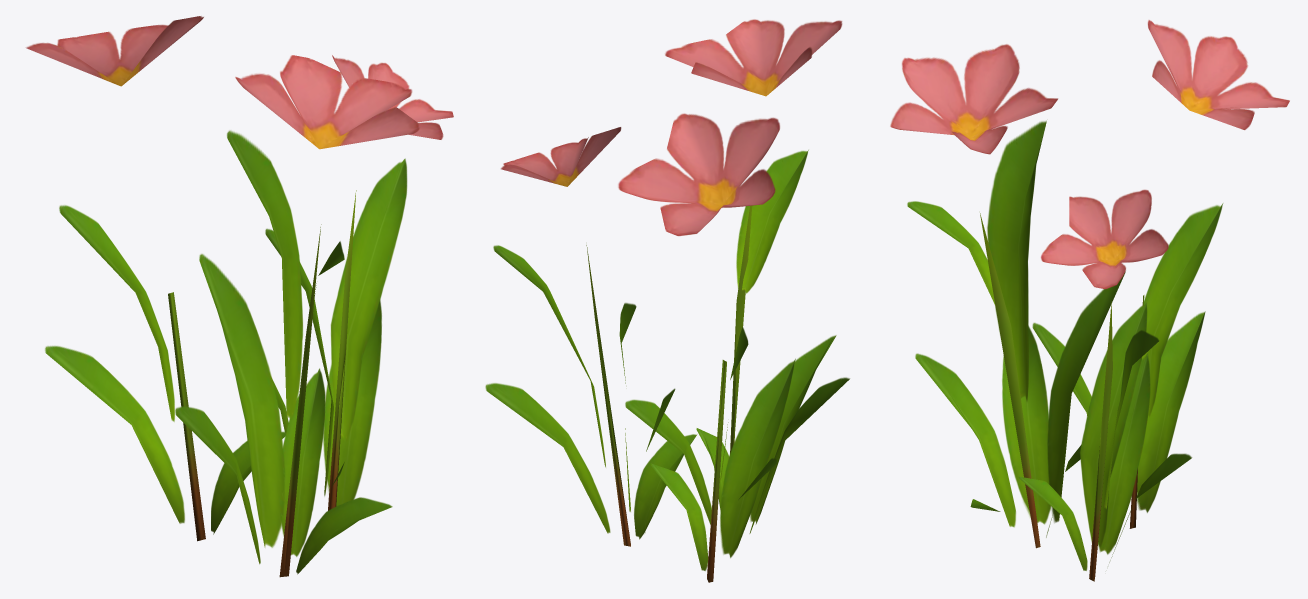
The model's file is flowers-1.glb.
3 views of the same model, side by side, from view 1: azimuth 30°, elevation 25°; view 2: azimuth 150°, elevation 25°; view 3: azimuth 270°, elevation 25° (orthographic). The views are drawn at different scales.
Parts seen in each view (by area): view 1: Flower_3_Group; view 2: Flower_3_Group; view 3: Flower_3_Group.
Boxes of the visible parts, x1,y1,x2,y2 form: Flower_3_Group: (26, 16, 453, 577); Flower_3_Group: (485, 19, 849, 582); Flower_3_Group: (890, 20, 1289, 581).
Size of the model in its own units: 1.49 by 2.05 by 1.59.
2 materials, 2 textured.
